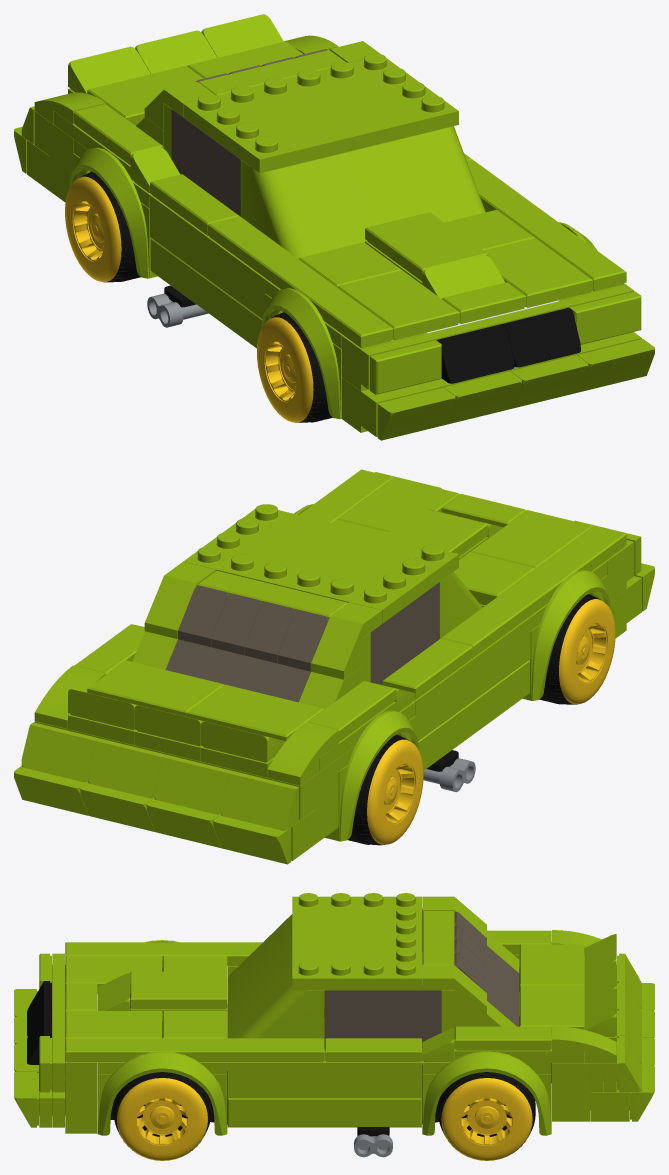
Rendered from Chick Hicks - LEGO Speed Champions Style.fbx.
3 renders of one model, top to bottom at view 1: azimuth 30°, elevation 25°; view 2: azimuth 150°, elevation 25°; view 3: azimuth 270°, elevation 25°, orthographic. The views are drawn at different scales.
Visible parts, largest first — view 1: part.084; view 2: part.084; view 3: part.084.
Boxes of the visible parts, x1,y1,x2,y2 form: part.084: (14, 14, 654, 440); part.084: (14, 469, 654, 864); part.084: (14, 893, 654, 1160).
Size of the model in its own units: 7500 by 4640 by 15800.
